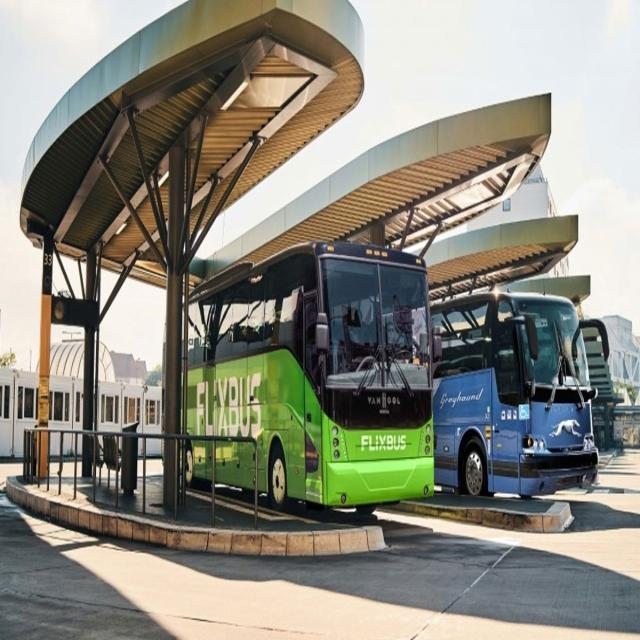bus: (189, 242, 434, 508), (431, 291, 599, 498)
